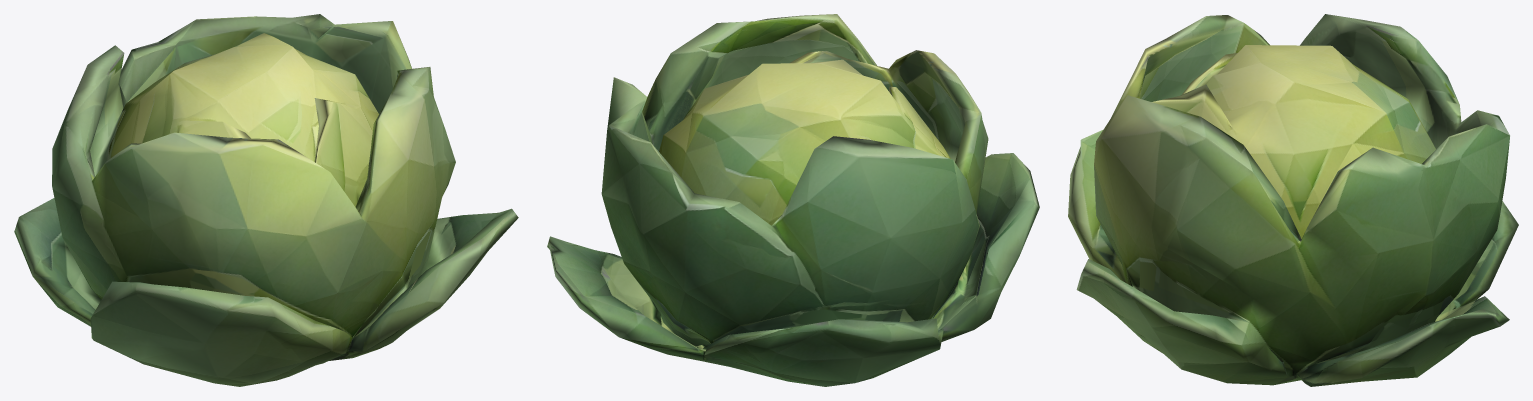
File: Cabbage.fbx
The picture shows the model from 3 angles, left to right: view 1: azimuth 30°, elevation 25°; view 2: azimuth 150°, elevation 25°; view 3: azimuth 270°, elevation 25°; orthographic projection. The views are drawn at different scales.
Parts seen in each view (by area): view 1: texture_mapping; view 2: texture_mapping; view 3: texture_mapping.
Boxes of the visible parts, bbox=[...] form: texture_mapping: bbox=[14, 14, 518, 386]; texture_mapping: bbox=[547, 14, 1039, 386]; texture_mapping: bbox=[1068, 14, 1518, 386].
Size of the model in its own units: 0.9731 by 0.9877 by 0.6889.
1 material, 1 textured.
